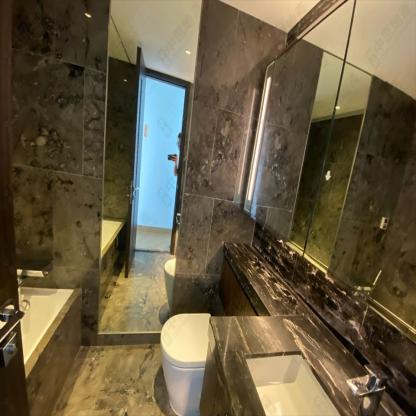Bathtub: (16, 286, 81, 415), (99, 215, 124, 306)
Faucet: (341, 368, 390, 415)
Toilet: (160, 310, 211, 414), (162, 256, 175, 311)
Toilet Sink: (245, 353, 345, 415)
